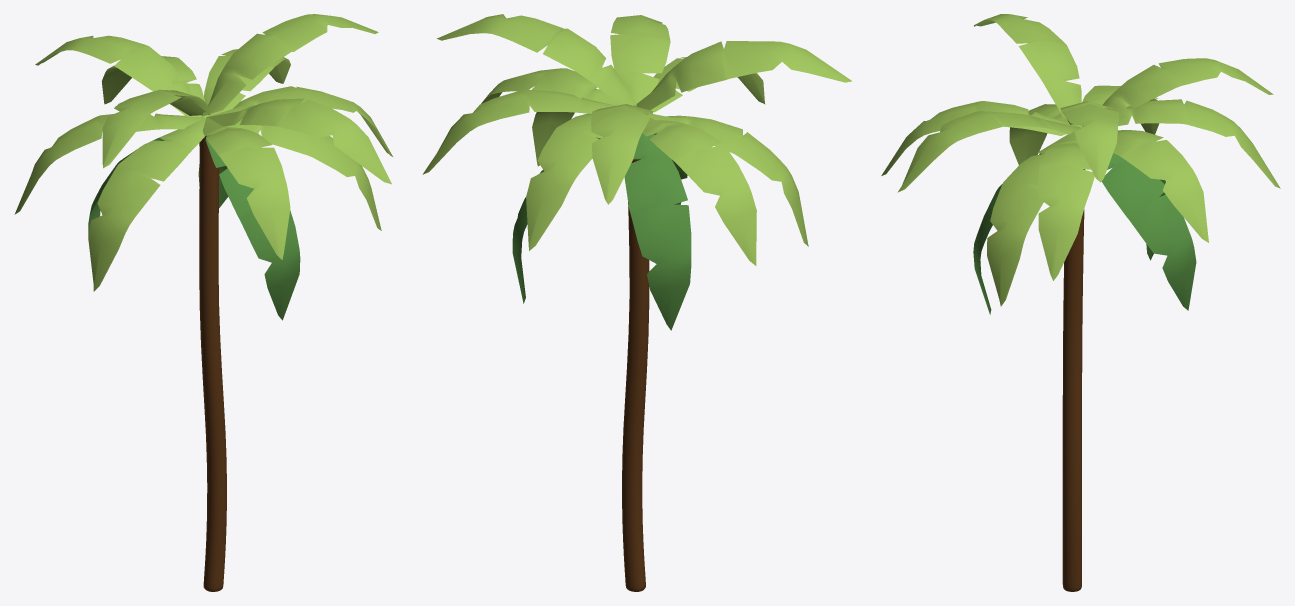
Rendered from Palm_J_01.fbx.
The picture shows the model from 3 angles, left to right: view 1: azimuth 30°, elevation 25°; view 2: azimuth 150°, elevation 25°; view 3: azimuth 270°, elevation 25°; orthographic projection. The views are drawn at different scales.
Parts seen in each view (by area): view 1: Palm_J_01; view 2: Palm_J_01; view 3: Palm_J_01.
Part boxes in pixels (x1,y1,x2,y2): Palm_J_01: (14, 14, 392, 591); Palm_J_01: (422, 14, 851, 591); Palm_J_01: (881, 14, 1280, 591).
Size of the model in its own units: 728 by 1091 by 755.
